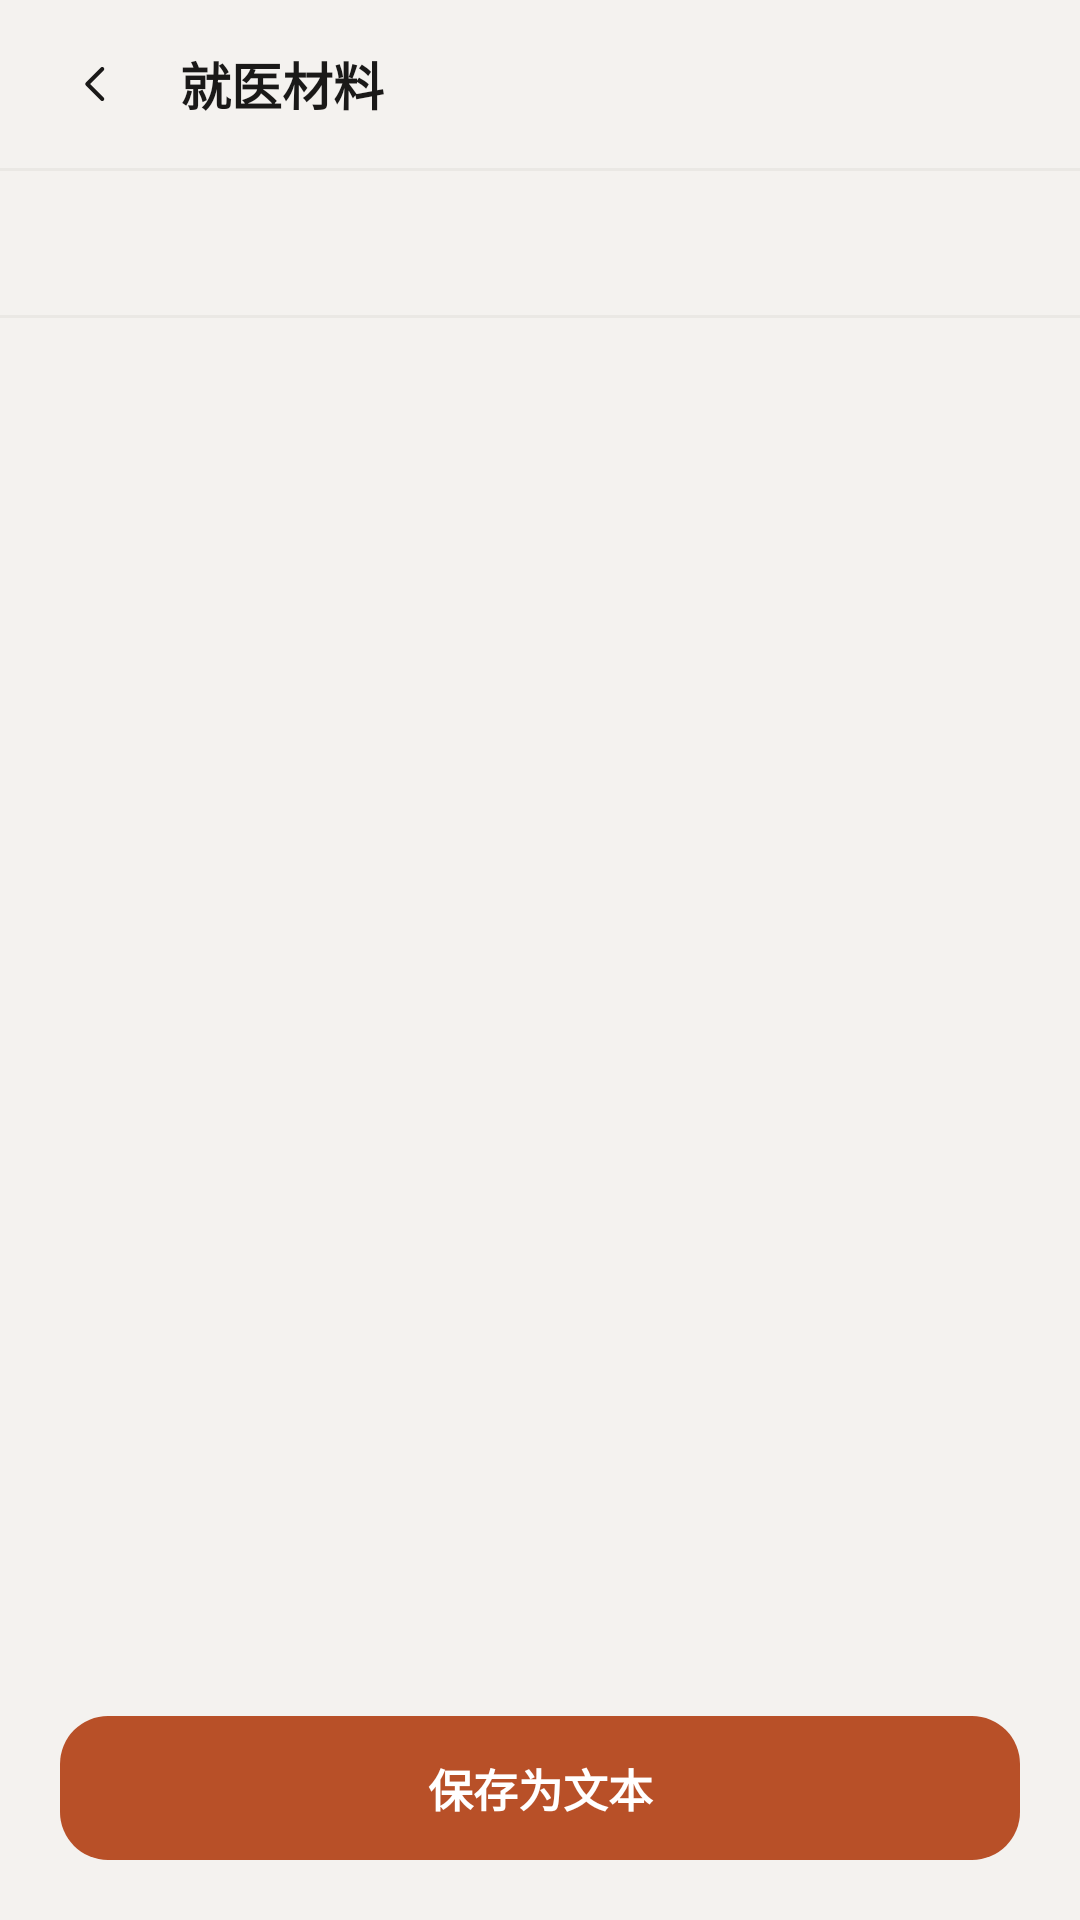

Screen size 1080w x 1920h. Icon name, then its box in pixels as (x1, y1, x2, y2):
返回: (85, 67, 105, 101)
